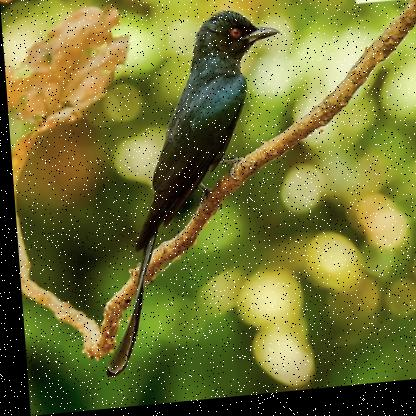Burung: (77, 9, 301, 381)
